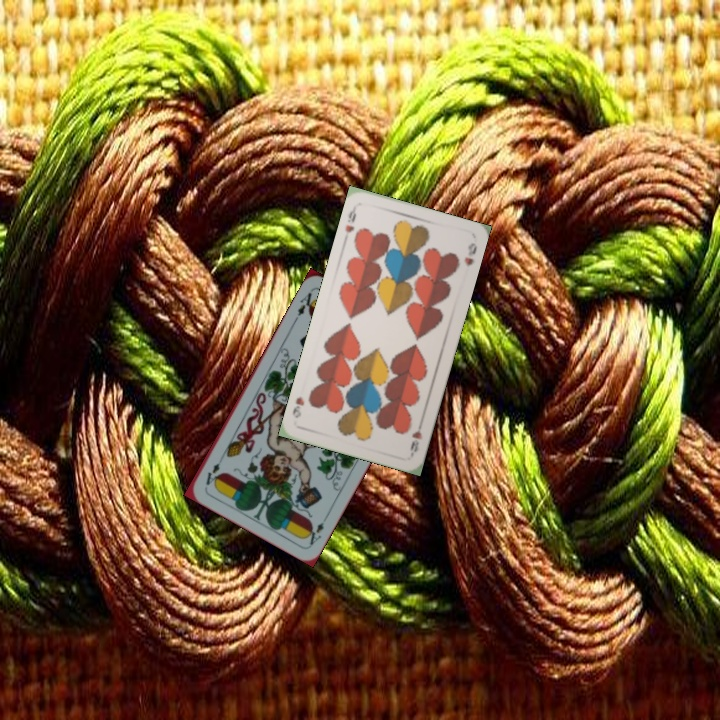EA: (291, 286, 319, 323), (301, 518, 326, 548)
H9: (406, 417, 425, 457), (340, 202, 359, 242)
